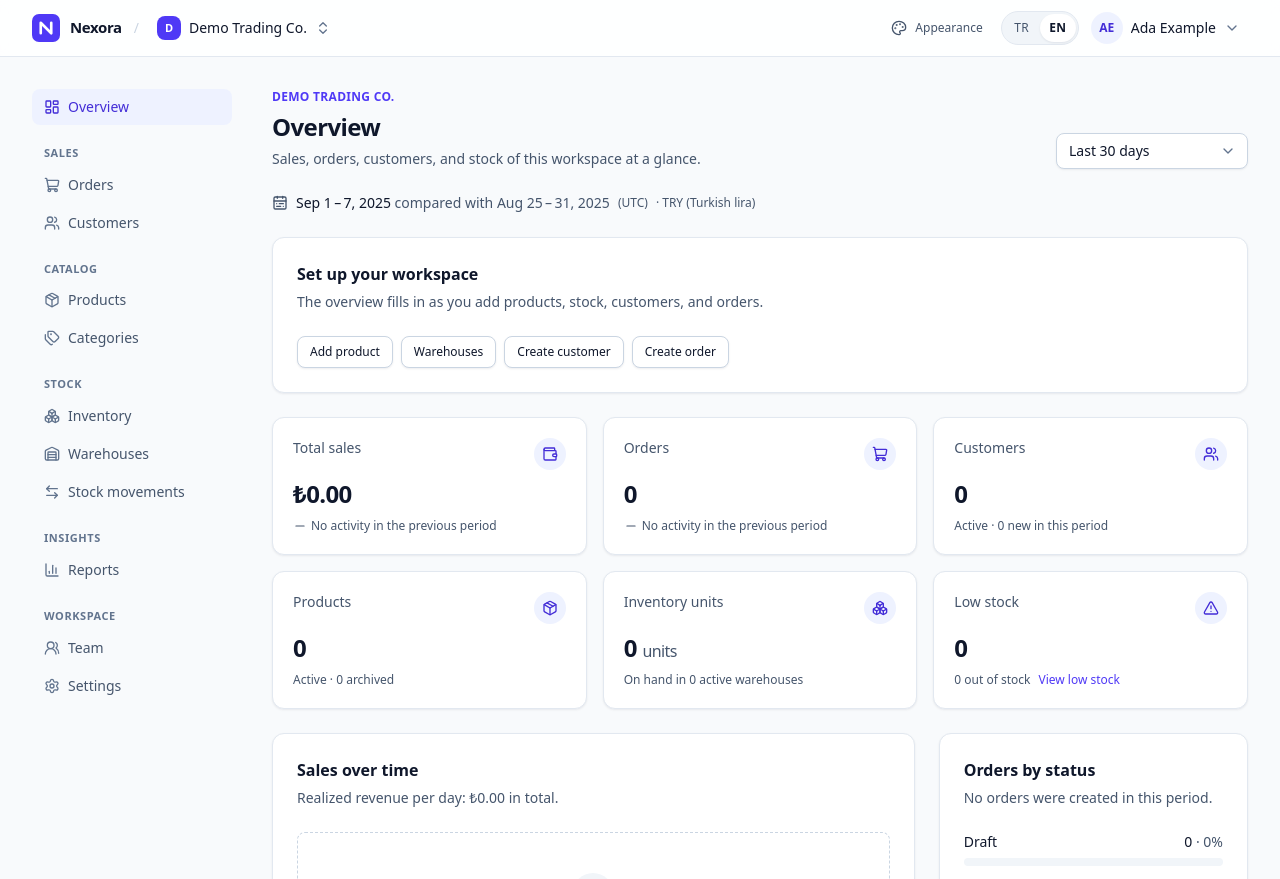
Scenario: Account menu › shows who is signed in and links to the personal settings
Expected: the heading "Overview" is shown, [272,110,380,143]
Click the button "AE Ada Example". click: (1167, 28)
box: [1087,8,1248,48]
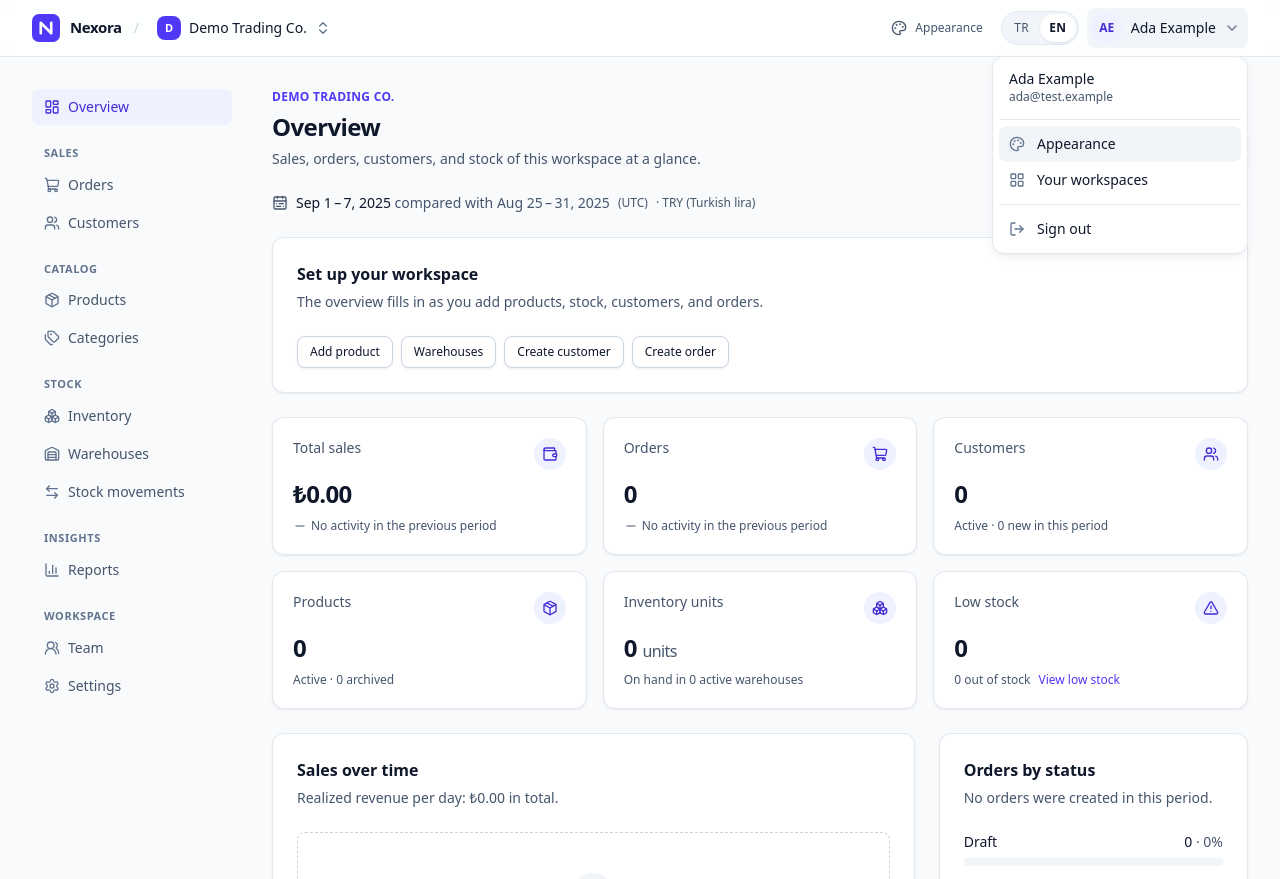
Expected: the text "ada@test.example" is shown, [1009,88,1113,105]
Expected: the menu item "Sign out" is enabled, [999,211,1241,247]
